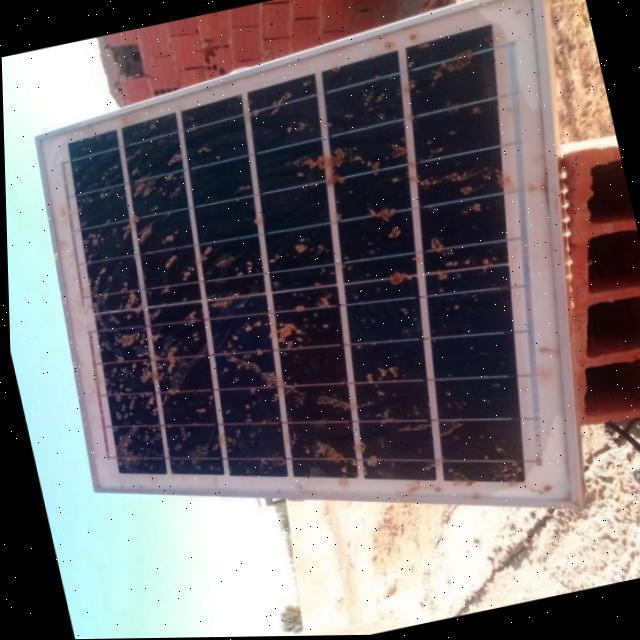Surface Contaminant: (63, 32, 526, 484)
